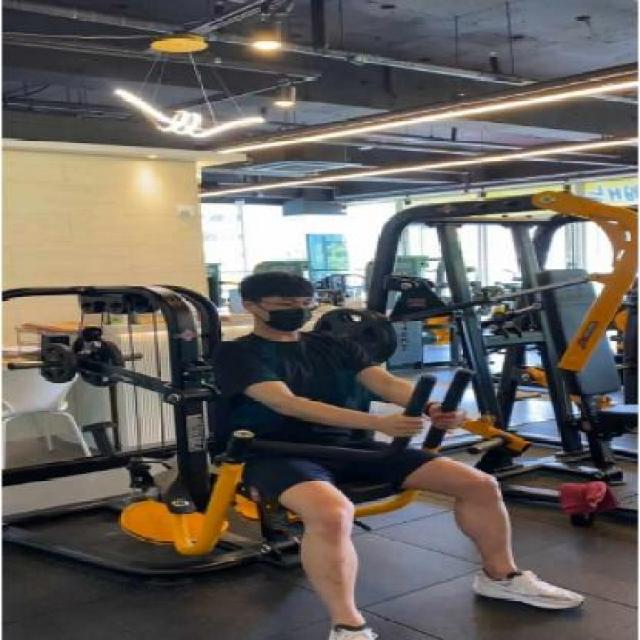chest fly machine: (18, 204, 572, 640)
